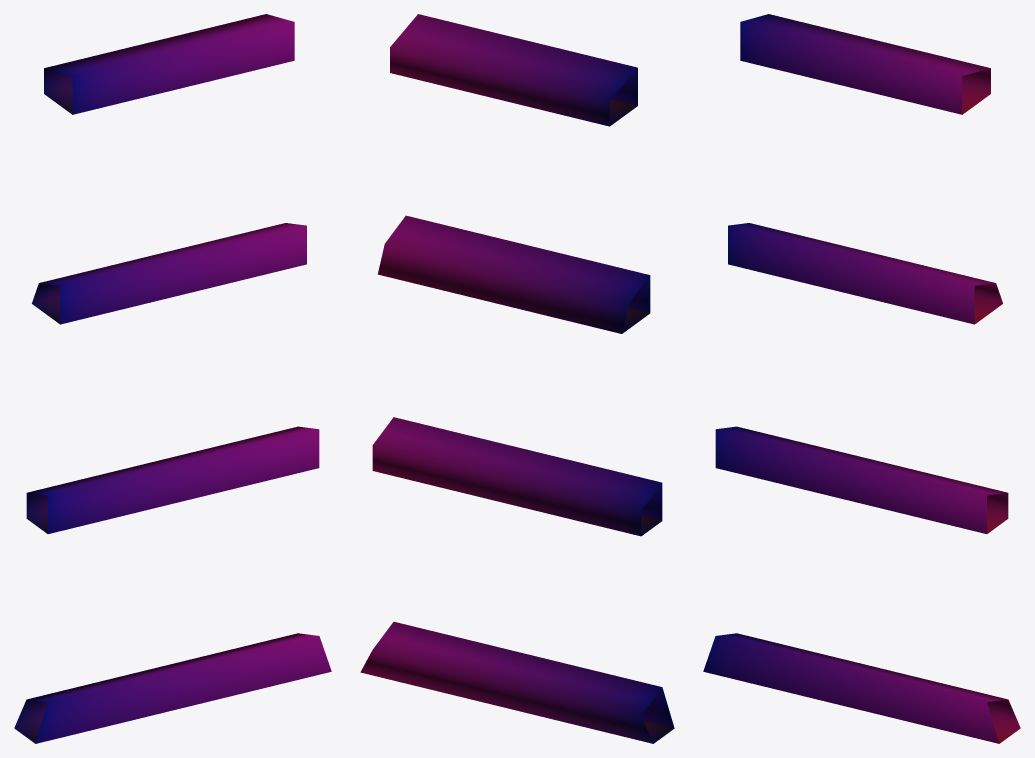
3 views of the same model, side by side, from view 1: azimuth 30°, elevation 25°; view 2: azimuth 150°, elevation 25°; view 3: azimuth 330°, elevation 25° (orthographic).
Visible parts, largest first — view 1: part; view 2: part; view 3: part.
Part boxes in pixels (<box>): part: <box>14,14,331,743</box>; part: <box>360,14,674,743</box>; part: <box>703,14,1020,743</box>.
Size of the model in its own units: 3120 by 6630 by 520.
